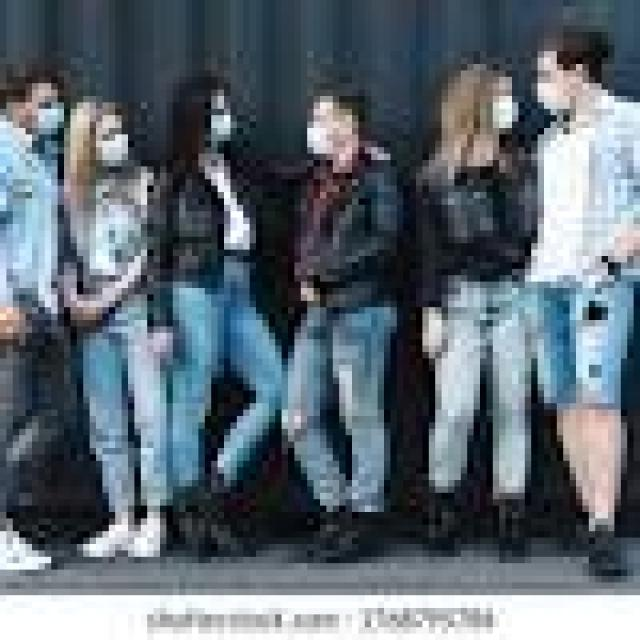Jacket: (412, 141, 536, 321), (142, 146, 273, 314), (287, 160, 405, 319)
